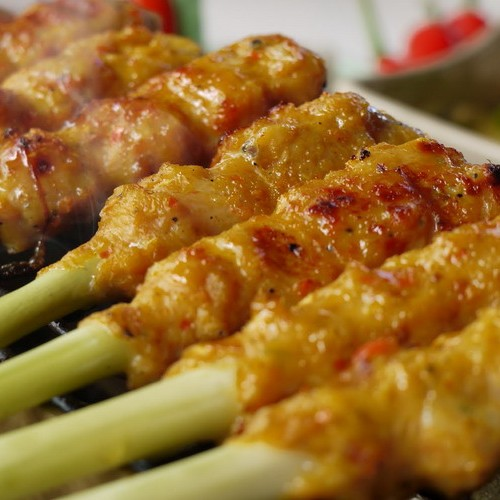sate lilit: (1, 45, 496, 500)
